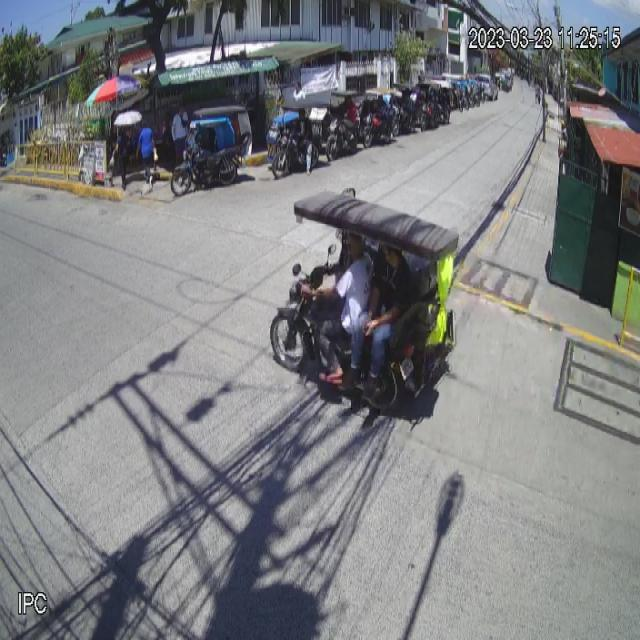Tricycle: (270, 184, 460, 420), (170, 105, 252, 196)
